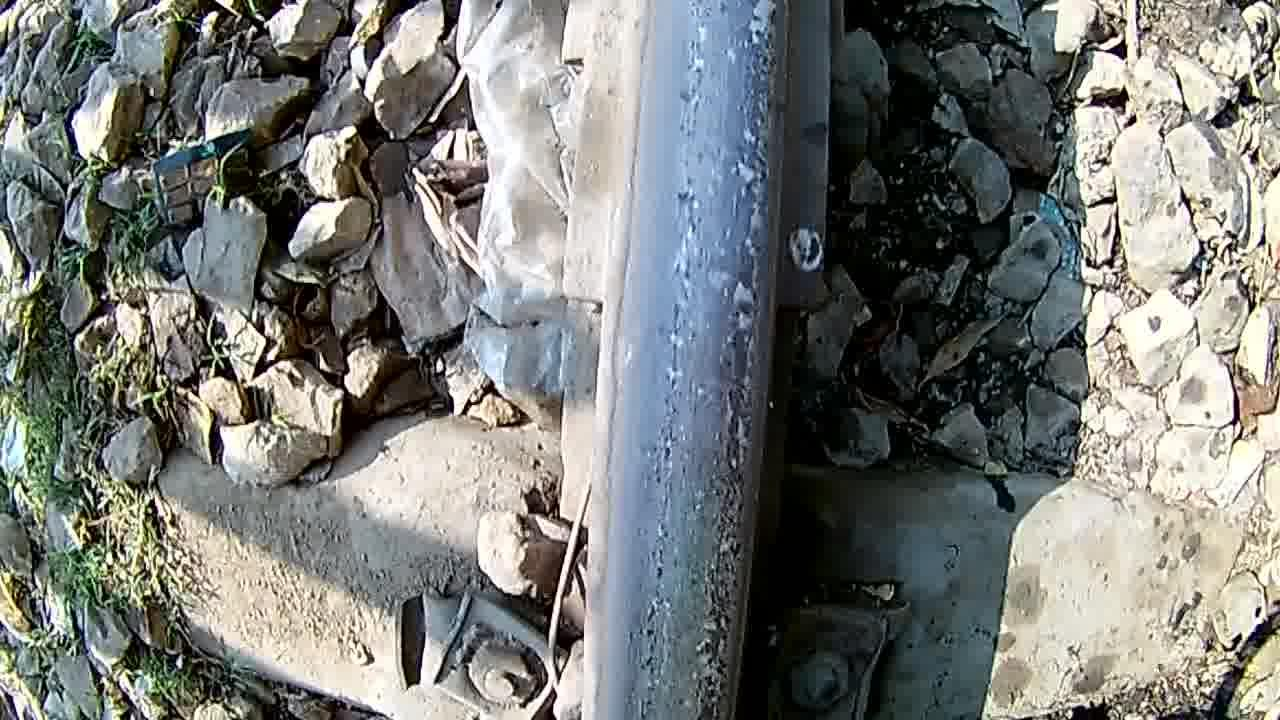clip_missing: (609, 4, 787, 718)
